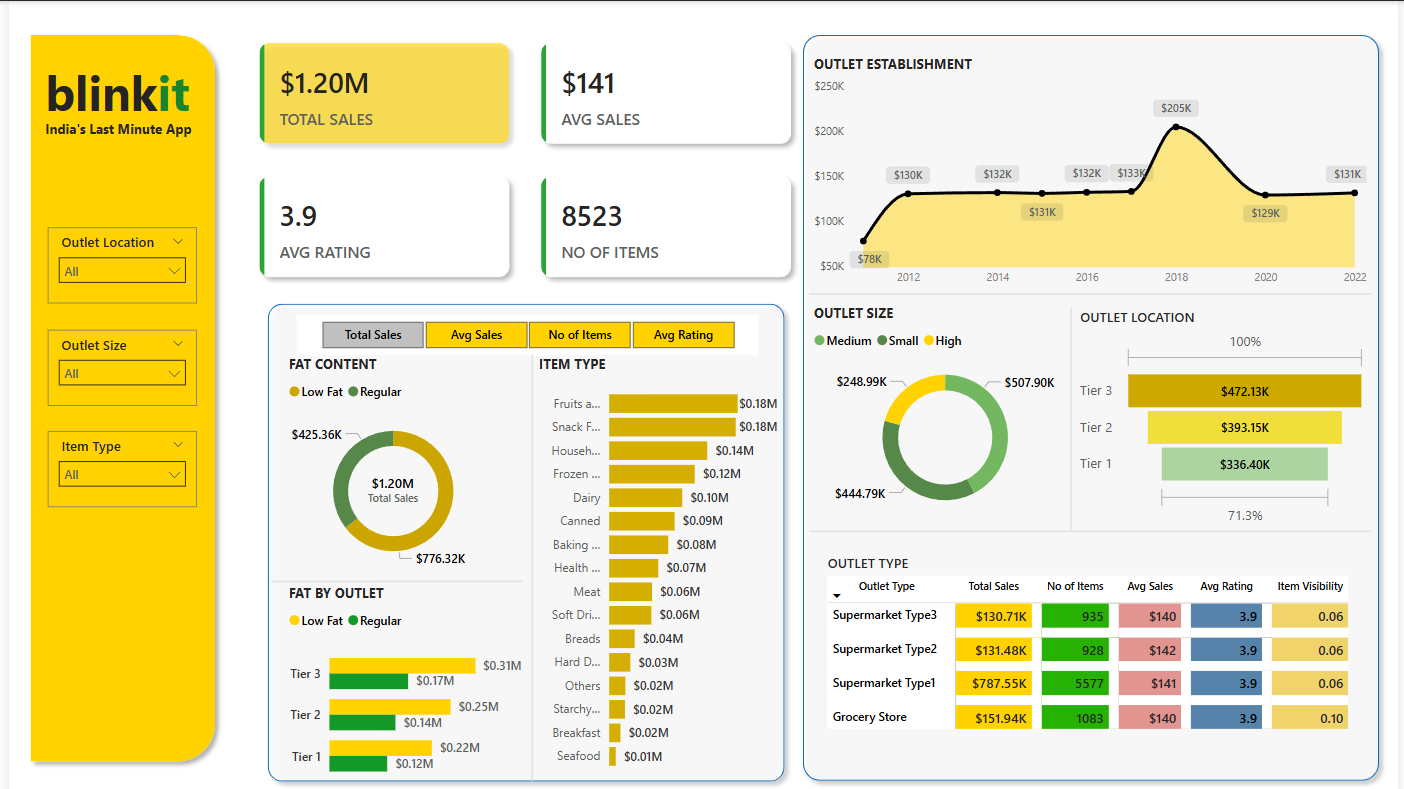

Layout of this report page (visuals, bound fields, positions):
{"tool":"powerbi","page":{"name":"Page 1","canvas":[1400,800],"ordinal":0},"visuals":[{"type":"shape","box":[12,25.5,204.1,750.4],"z":0},{"type":"textbox","box":[31.5,54,204.1,99.1],"z":1000},{"type":"textbox","box":[31.5,114.1,204.1,28.5],"z":2000},{"type":"cardVisual","fields":{"Data":["BlinkIT Grocery Data.Total Sales","BlinkIT Grocery Data.Avg Sales","BlinkIT Grocery Data.Avg Rating","BlinkIT Grocery Data.No of Items"]},"box":[235.6,25.5,570.3,270.2],"z":3000},{"type":"shape","box":[252.1,295.7,538.8,499.8],"z":4000},{"type":"donutChart","title":"FAT CONTENT","fields":{"Y":["BlinkIT Grocery Data.Total Sales"],"Category":["BlinkIT Grocery Data.Item Fat Content"]},"box":[277.7,357.2,220.6,229.6],"z":5000},{"type":"slicer","fields":{"Values":["Metrics.Metrics"]},"box":[289.7,316.7,465.3,40.5],"z":6000},{"type":"cardVisual","fields":{"Data":["BlinkIT Grocery Data.Total Sales"]},"box":[318.2,450.3,139.6,84],"z":7000},{"type":"clusteredBarChart","title":"FAT BY OUTLET","fields":{"Y":["BlinkIT Grocery Data.Total Sales"],"Category":["BlinkIT Grocery Data.Outlet Location Type"],"Series":["BlinkIT Grocery Data.Item Fat Content"]},"box":[277.7,586.8,244.6,213.1],"z":8000},{"type":"shape","box":[264.2,370.7,253.6,429.2],"z":9000},{"type":"shape","box":[400.7,357.2,253.6,429.2],"z":10000},{"type":"barChart","title":"ITEM TYPE","fields":{"Y":["BlinkIT Grocery Data.Total Sales"],"Category":["BlinkIT Grocery Data.Item Type"]},"box":[529.8,357.2,250.6,429.2],"z":11000},{"type":"shape","box":[791,25.5,598.8,769.9],"z":12000},{"type":"lineChart","title":"OUTLET ESTABLISHMENT","fields":{"Category":["BlinkIT Grocery Data.Outlet Establishment Year"],"Y":["BlinkIT Grocery Data.Total Sales"]},"box":[806,54,567.3,241.6],"z":13000},{"type":"shape","box":[806,81,567.3,429.2],"z":14000},{"type":"donutChart","title":"OUTLET SIZE","fields":{"Y":["BlinkIT Grocery Data.Total Sales"],"Category":["BlinkIT Grocery Data.Outlet Size"]},"box":[806,304.7,275,225],"z":15000},{"type":"shape","box":[944,309.2,253.6,225.1],"z":16000},{"type":"funnel","title":"OUTLET LOCATION","fields":{"Y":["BlinkIT Grocery Data.Total Sales"],"Category":["BlinkIT Grocery Data.Outlet Location Type"]},"box":[1074.6,309.2,298.7,225.1],"z":17000},{"type":"shape","box":[806,319.7,567.3,429.2],"z":18000},{"type":"pivotTable","title":"OUTLET TYPE","fields":{"Rows":["BlinkIT Grocery Data.Outlet Type"],"Values":["BlinkIT Grocery Data.Total Sales","BlinkIT Grocery Data.No of Items","BlinkIT Grocery Data.Avg Sales","BlinkIT Grocery Data.Avg Rating","Avg(BlinkIT Grocery Data.Item Visibility)"]},"box":[821,556.8,568.8,204.1],"z":19000},{"type":"slicer","fields":{"Values":["BlinkIT Grocery Data.Outlet Location Type"]},"box":[39,228.1,150.1,76.5],"z":20000},{"type":"slicer","fields":{"Values":["BlinkIT Grocery Data.Outlet Size"]},"box":[39,331.7,150.1,76.5],"z":21000},{"type":"slicer","fields":{"Values":["BlinkIT Grocery Data.Item Type"]},"box":[39,433.7,150.1,76.5],"z":22000}]}

Visuals, with their boxes in screenshot pixels (x1, y1, x2, y2), scaled from the page's 1400x800 canvas onto the 1404x789 screenshot:
shape: crop(12, 25, 217, 765)
textbox: crop(32, 53, 236, 151)
textbox: crop(32, 113, 236, 141)
cardVisual - BlinkIT Grocery Data.Total Sales x BlinkIT Grocery Data.Avg Sales: crop(236, 25, 808, 292)
shape: crop(253, 292, 793, 785)
"FAT CONTENT" donutChart: crop(278, 352, 500, 579)
slicer - Metrics.Metrics: crop(291, 312, 757, 352)
cardVisual - BlinkIT Grocery Data.Total Sales: crop(319, 444, 459, 527)
"FAT BY OUTLET" clusteredBarChart: crop(278, 579, 524, 788)
shape: crop(265, 366, 519, 788)
shape: crop(402, 352, 656, 776)
"ITEM TYPE" barChart: crop(531, 352, 783, 776)
shape: crop(793, 25, 1394, 784)
"OUTLET ESTABLISHMENT" lineChart: crop(808, 53, 1377, 292)
shape: crop(808, 80, 1377, 503)
"OUTLET SIZE" donutChart: crop(808, 301, 1084, 522)
shape: crop(947, 305, 1201, 527)
"OUTLET LOCATION" funnel: crop(1078, 305, 1377, 527)
shape: crop(808, 315, 1377, 739)
"OUTLET TYPE" pivotTable: crop(823, 549, 1394, 750)
slicer - BlinkIT Grocery Data.Outlet Location Type: crop(39, 225, 190, 300)
slicer - BlinkIT Grocery Data.Outlet Size: crop(39, 327, 190, 403)
slicer - BlinkIT Grocery Data.Item Type: crop(39, 428, 190, 503)
